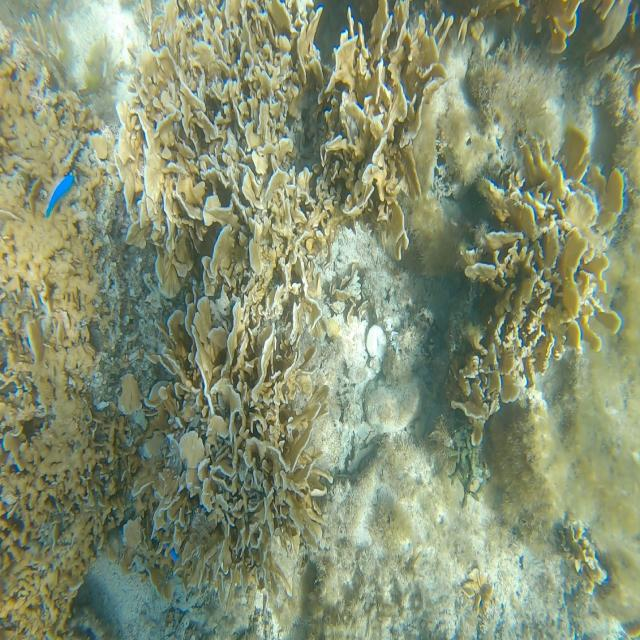rurisuzumedai: (45, 173, 74, 217), (170, 548, 178, 564)
